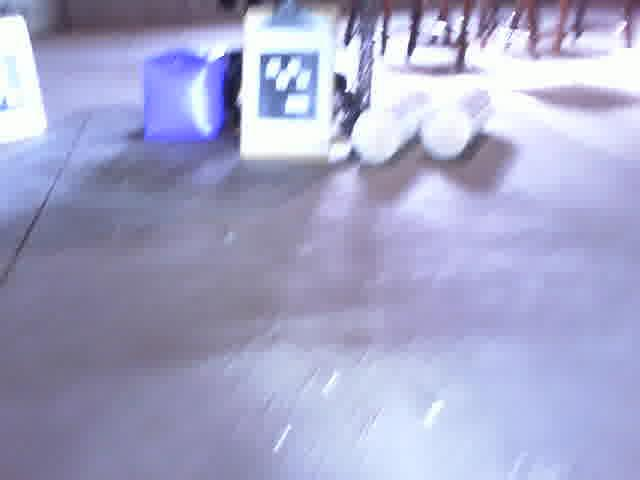coral: (348, 85, 434, 171), (419, 85, 495, 164)
